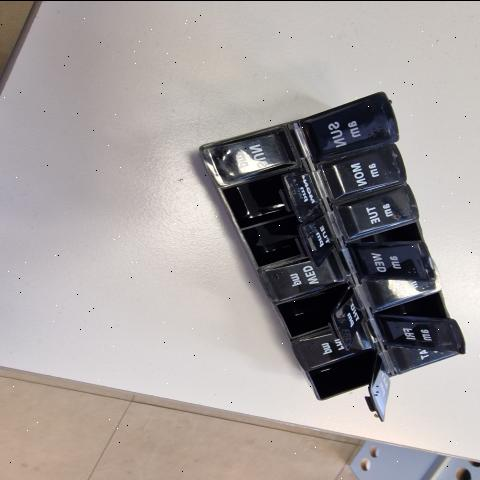Open: (222, 162, 301, 229), (278, 284, 351, 337), (242, 217, 316, 269), (309, 346, 379, 400), (380, 292, 449, 318), (351, 220, 420, 244)
